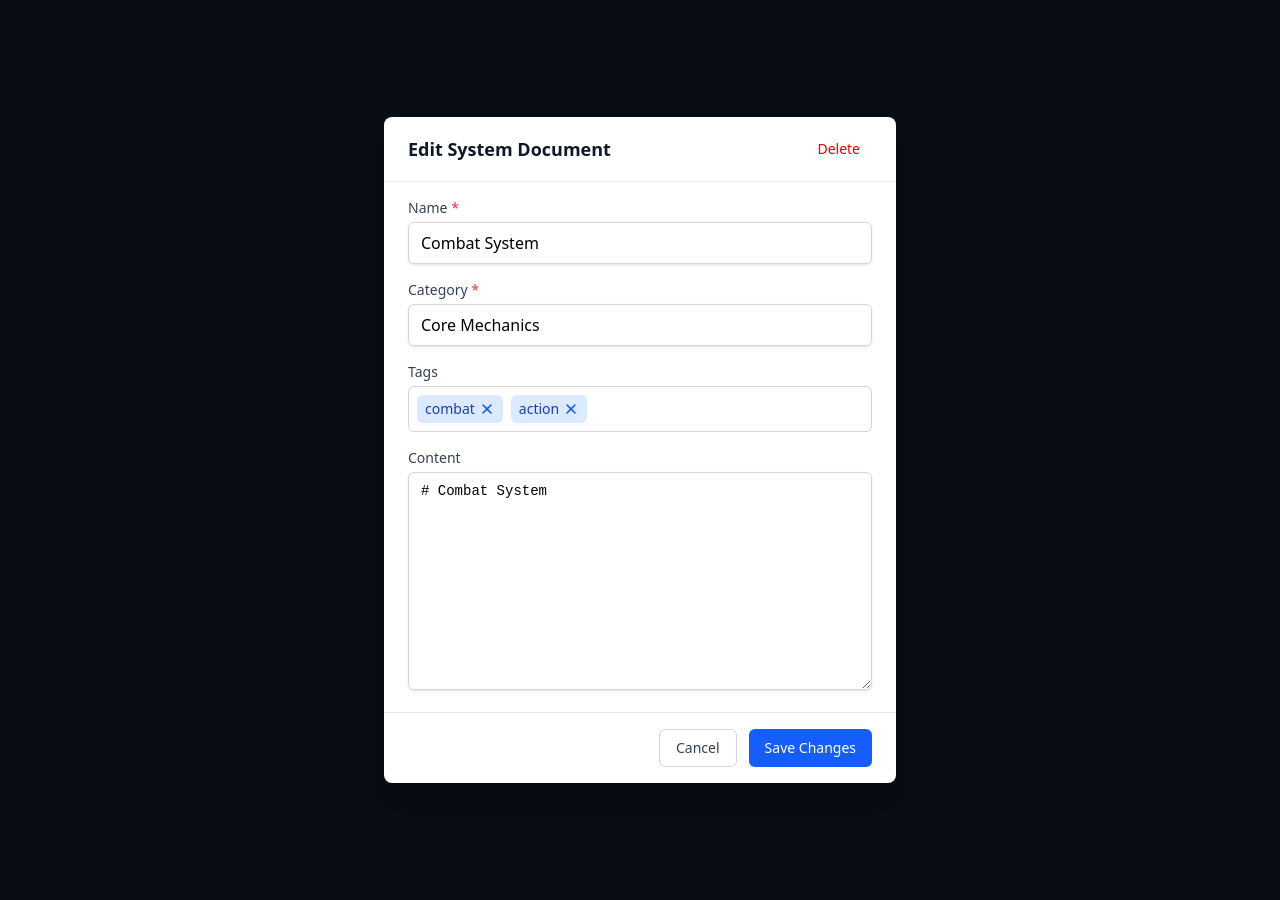
SystemEditModal › Delete Functionality › should show confirm dialog when delete clicked
Click the button "Delete". click: (839, 149)
box: top-left (805, 133), bottom-right (872, 165)
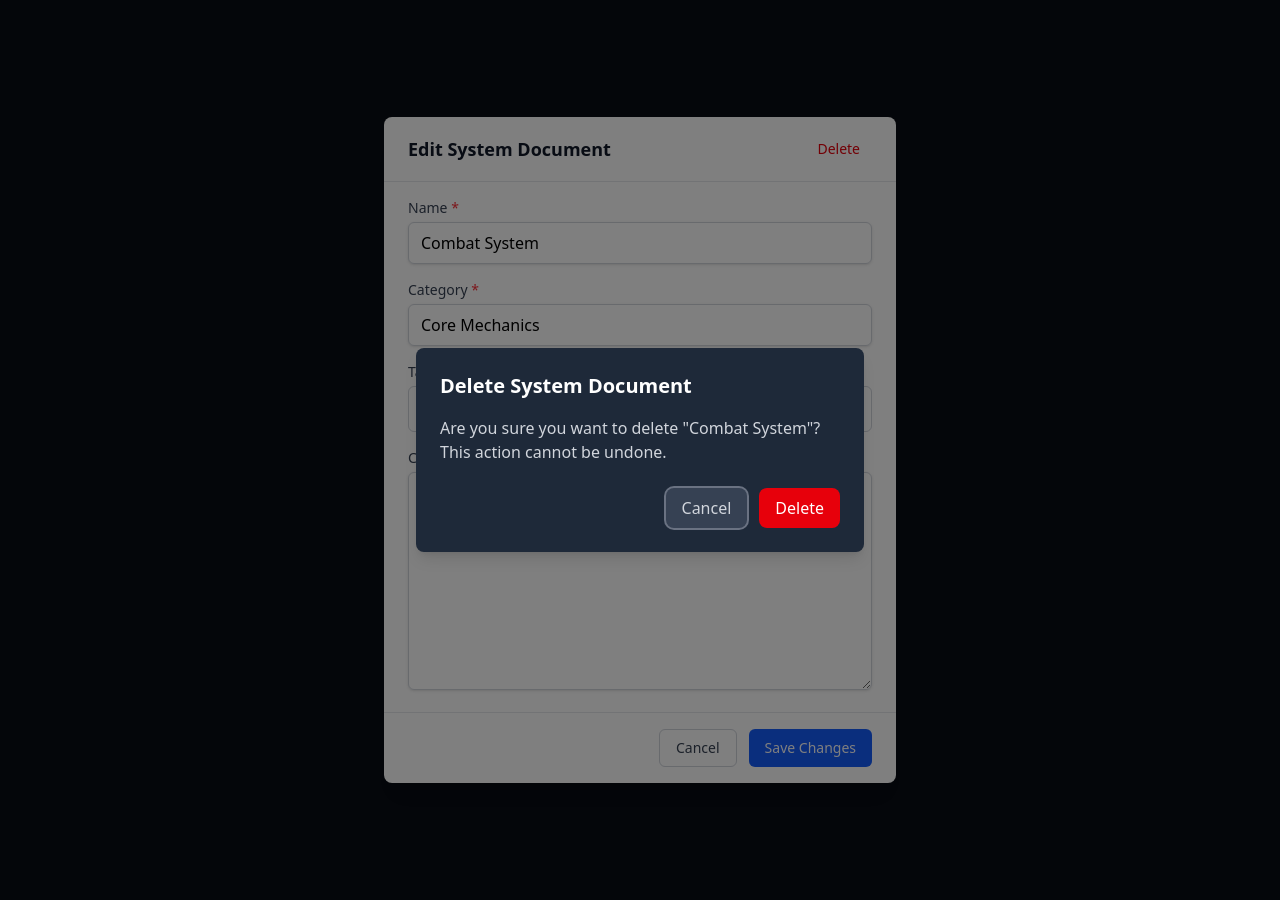
Expected: the text "Are you sure you want to delete" is shown, top-left (440, 417), bottom-right (820, 463)
